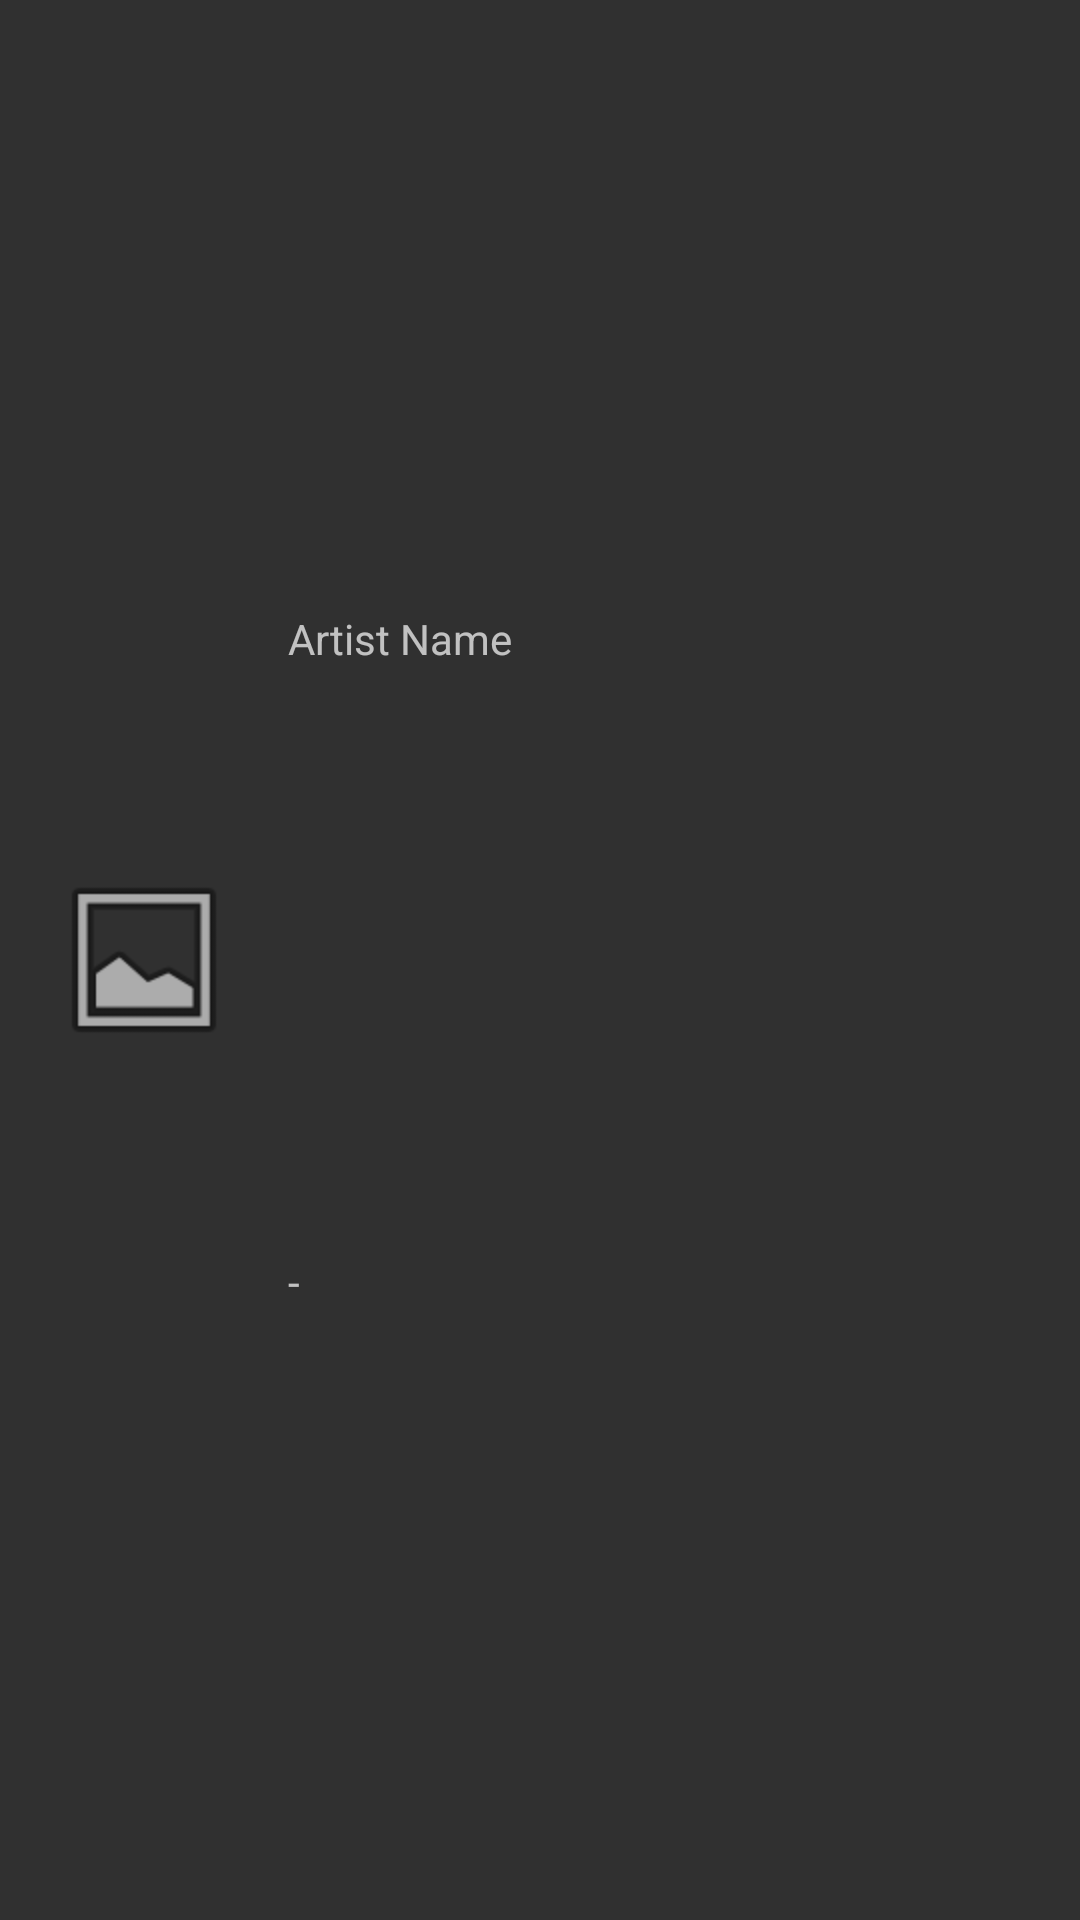

Named icons in this screenshot (1080 x 1920) and their bounding boxes, [x1=x1, y1=y1, x2=x2, y2=y2]:
Album cover: [x1=76, y1=892, x2=212, y2=1028]
